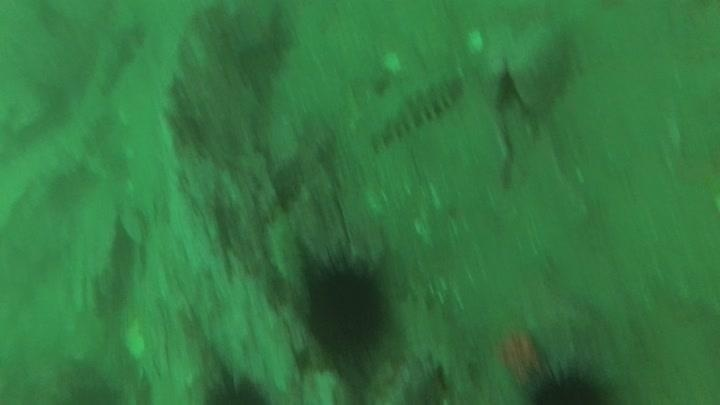echinus: (300, 251, 393, 362), (521, 358, 618, 404), (196, 368, 275, 405)
holothurian: (367, 69, 467, 150)
